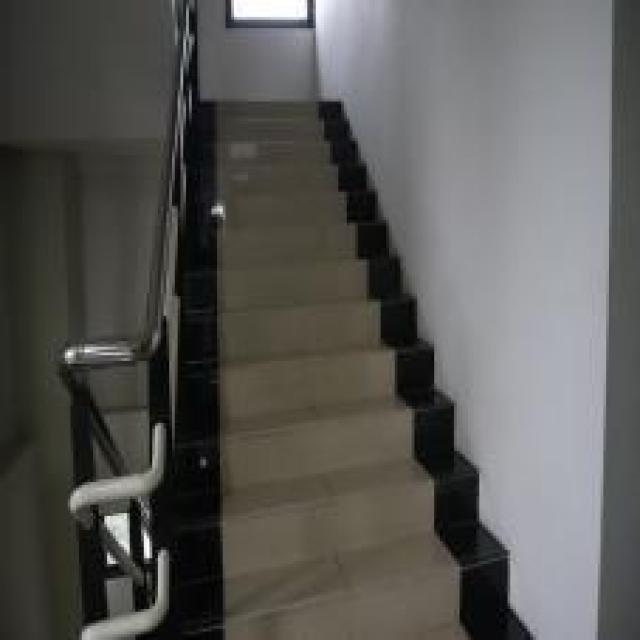upstair: (190, 137, 441, 633)
